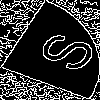S: (24, 25, 100, 75)
